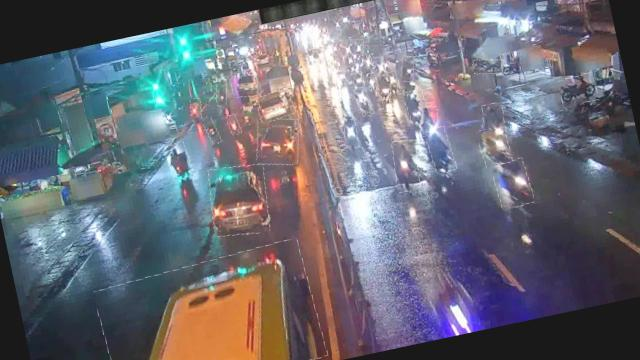Bike: (491, 158, 535, 210), (390, 138, 424, 193), (477, 124, 512, 168), (425, 126, 456, 175), (558, 72, 598, 107), (164, 141, 193, 181), (404, 88, 431, 126), (479, 101, 506, 138), (416, 105, 442, 138), (472, 54, 504, 76), (354, 85, 374, 117), (342, 118, 361, 150), (374, 72, 394, 100), (204, 115, 222, 146), (398, 54, 417, 82), (213, 77, 230, 106), (240, 105, 258, 128), (189, 97, 204, 121), (226, 114, 241, 136), (350, 68, 364, 88), (352, 38, 366, 56), (374, 56, 387, 75), (366, 72, 379, 90), (388, 71, 400, 90), (363, 53, 374, 70)
Bus: (92, 238, 328, 360)
Car: (203, 160, 274, 241), (251, 114, 305, 170), (256, 88, 296, 123), (232, 70, 260, 98)
